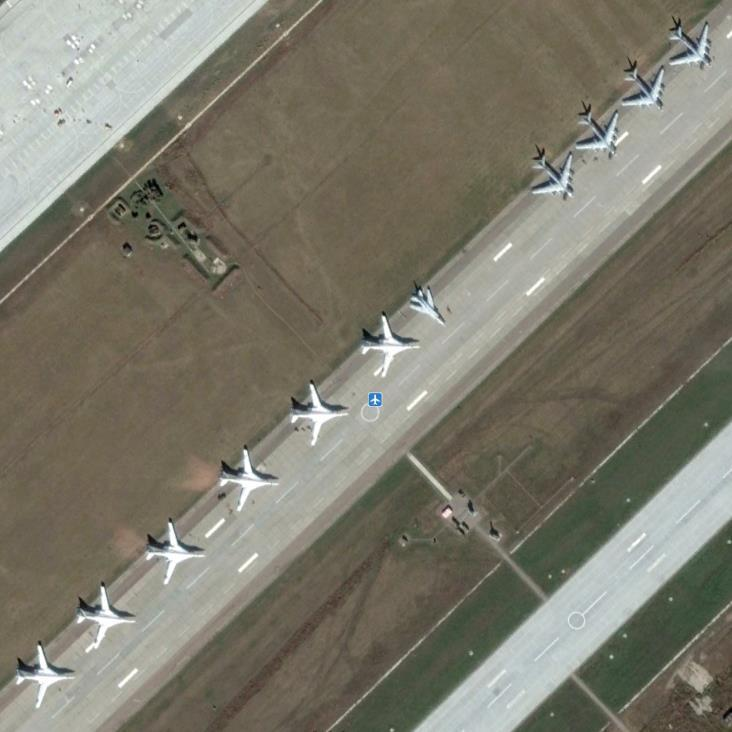A12: (407, 282, 445, 327)
A17: (665, 17, 716, 70), (526, 149, 576, 201), (574, 107, 620, 159), (619, 62, 665, 112)
A6: (72, 583, 140, 653), (285, 380, 352, 447), (216, 446, 282, 514), (142, 518, 207, 587), (357, 310, 420, 378), (14, 640, 75, 709)
